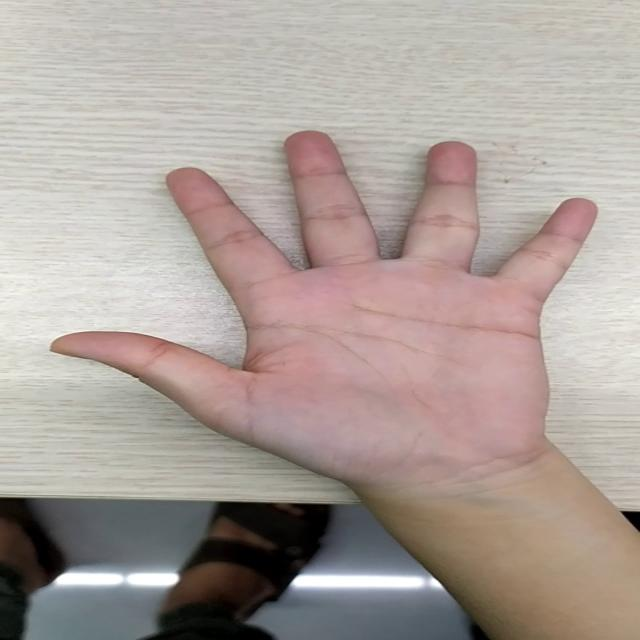hand: (29, 130, 592, 466)
